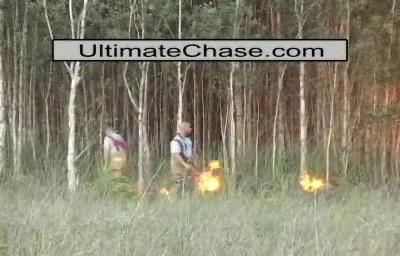fire: (195, 161, 220, 196), (300, 173, 326, 191)
